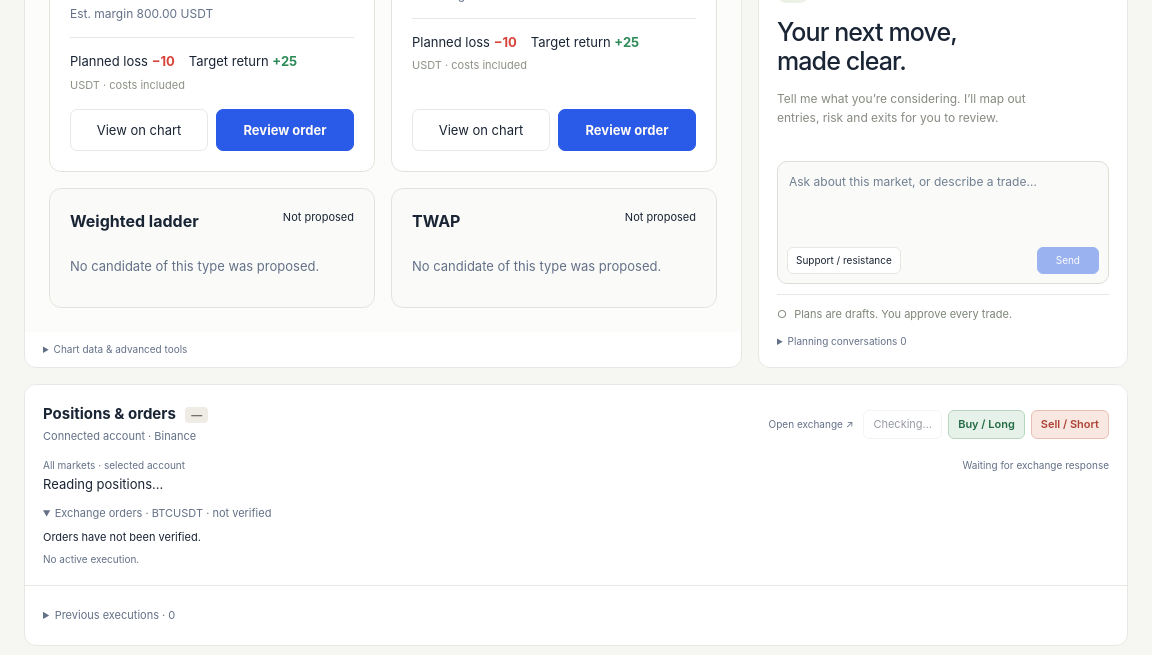
Test case: NOFX live planning › custom entry mode does not attach TWAP parameters to a ladder
The width and height of the screenshot is (1152, 655).
(page scrolled)
Expected: the button with aria-label "Test plan one" is shown, [70,109,208,151]
Click the heading "Chart data & advanced tools" at (120, 349), box [54,343,187,355]
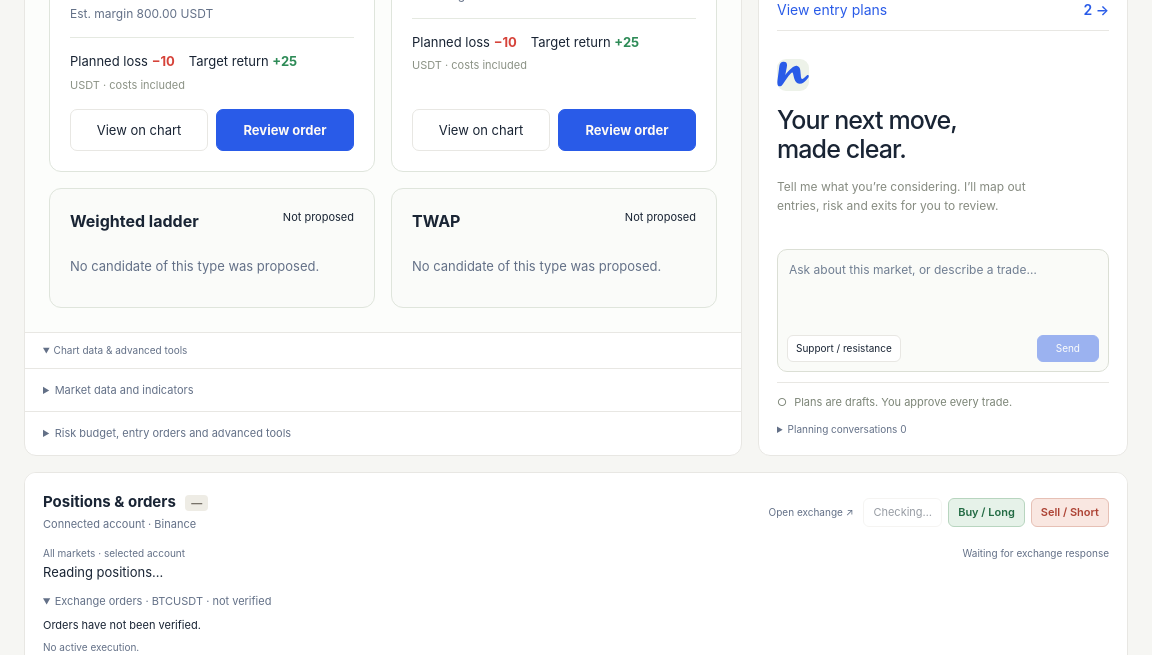
Click the heading "Risk budget, entry orders and advanced tools" at (173, 433), box [55,426,291,440]
(page scrolled)
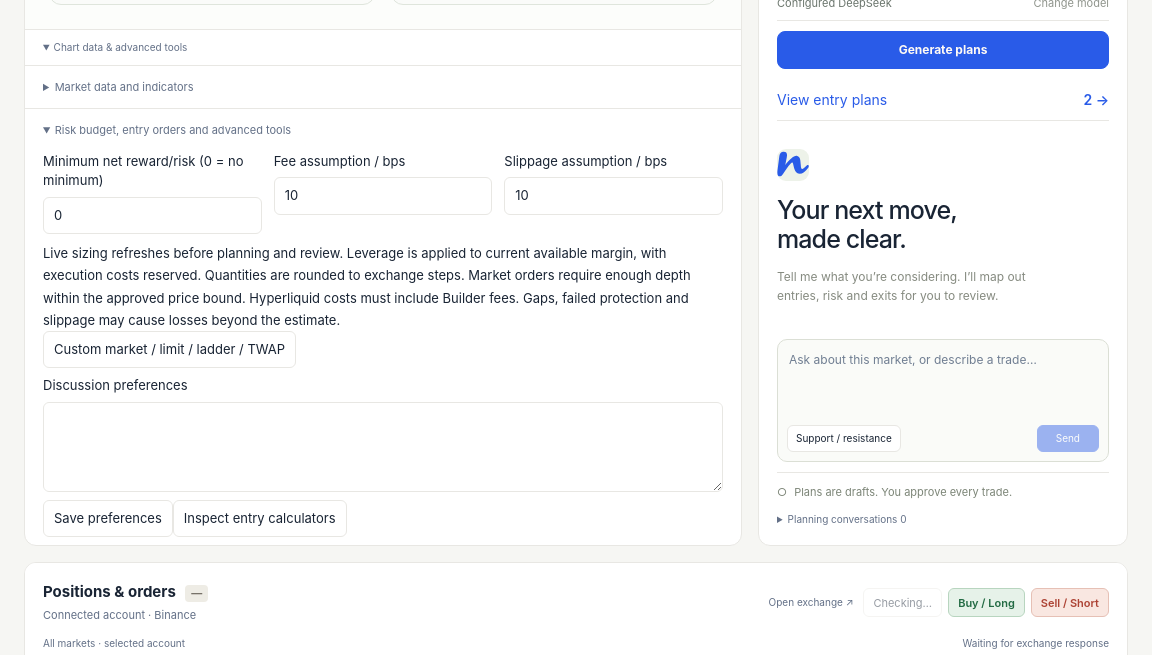
Click the button "Custom market / limit / ladder / TWAP" at (170, 350), box [43,331,296,368]
(page scrolled)
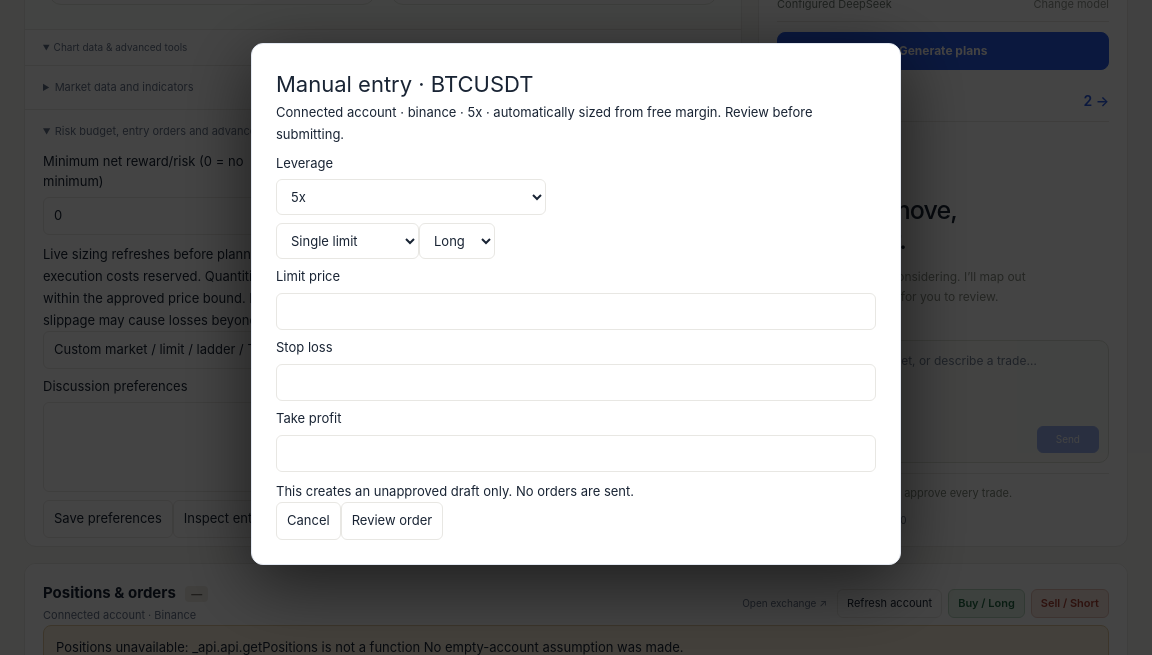
Select "Price ladder" in the dropdown named "Custom entry method" at (348, 241), box [276,223,419,259]
(page scrolled)
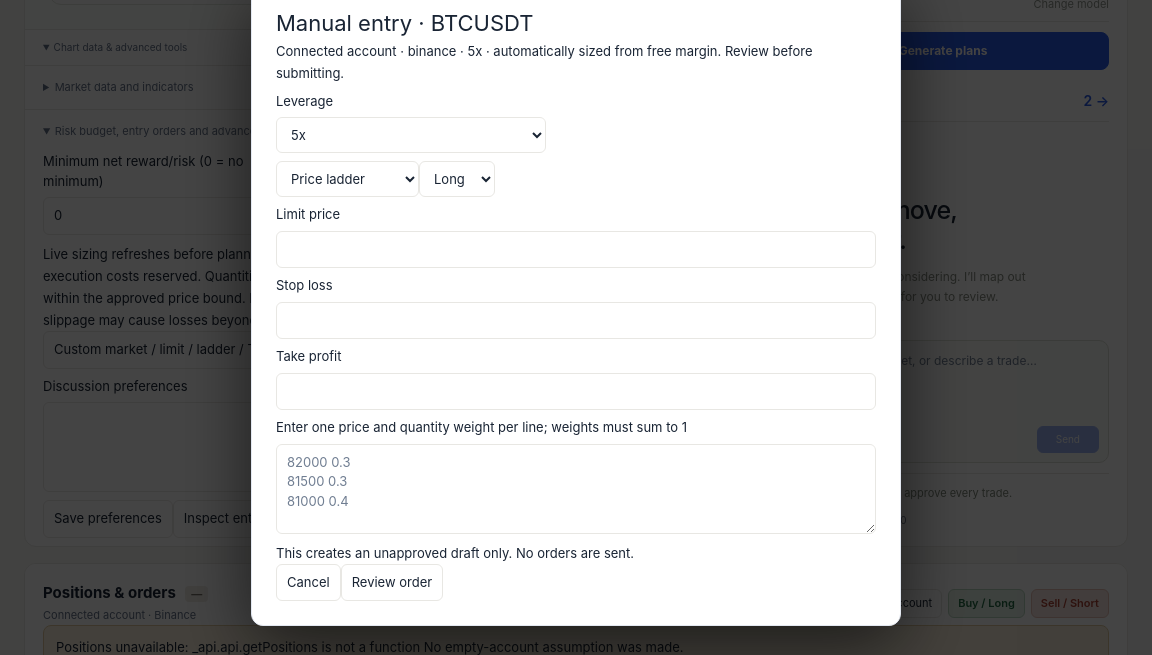
Expected: the text "Enter one price and quantity weight per line" is shown, [276,419,687,435]
